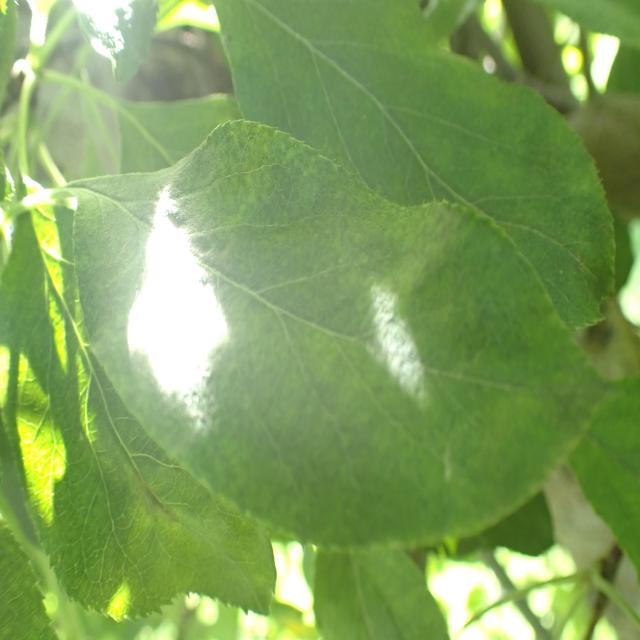scab: (176, 133, 511, 522)
